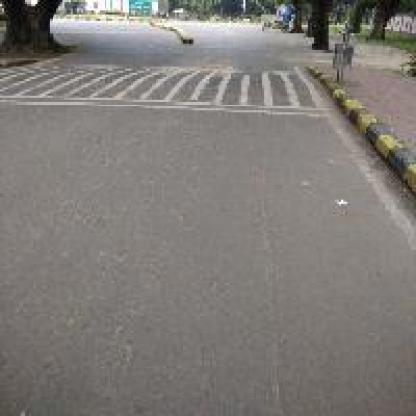Speed Bump: (0, 63, 329, 118)
